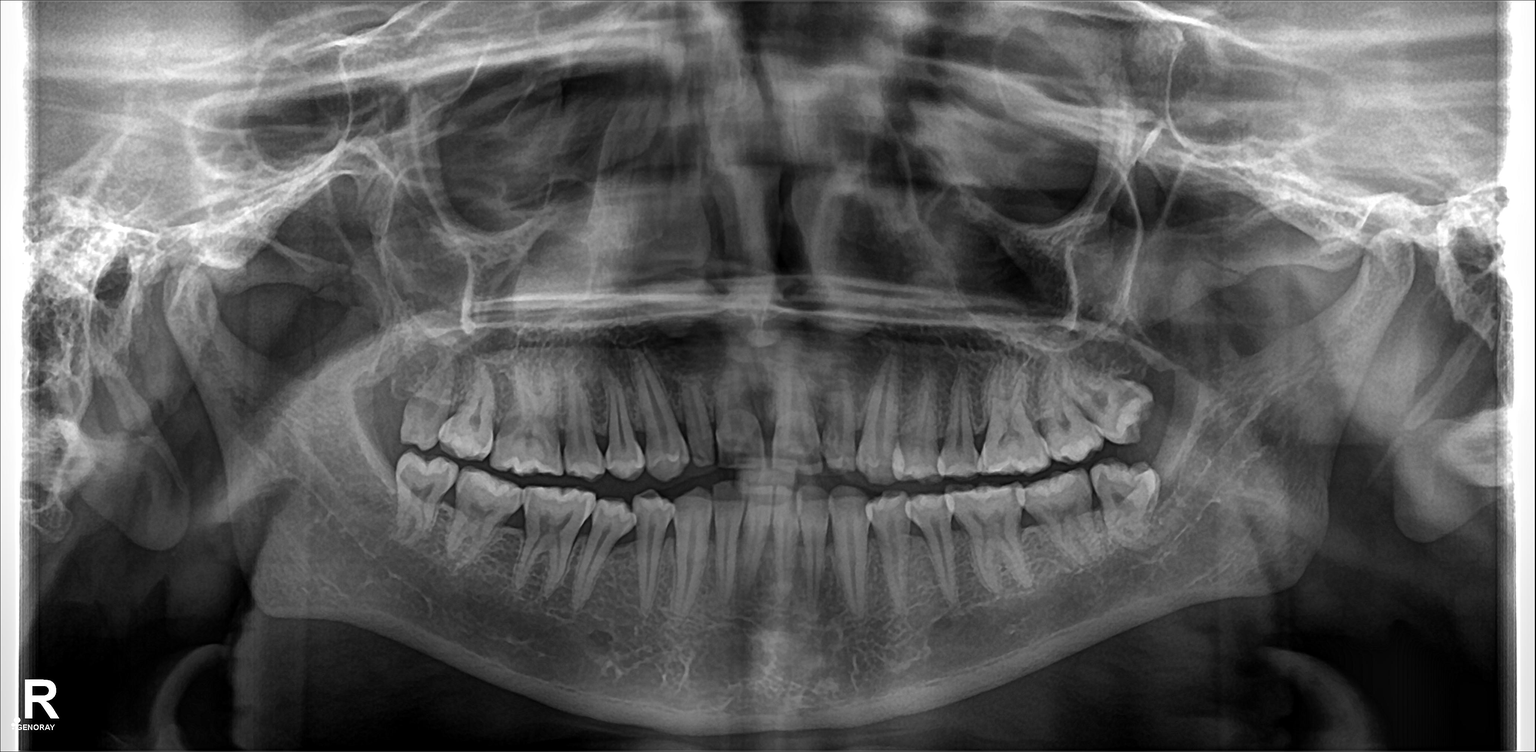Impacted Third Molar: (1091, 456, 1164, 545)
Missing Tooth: (367, 359, 399, 438)
